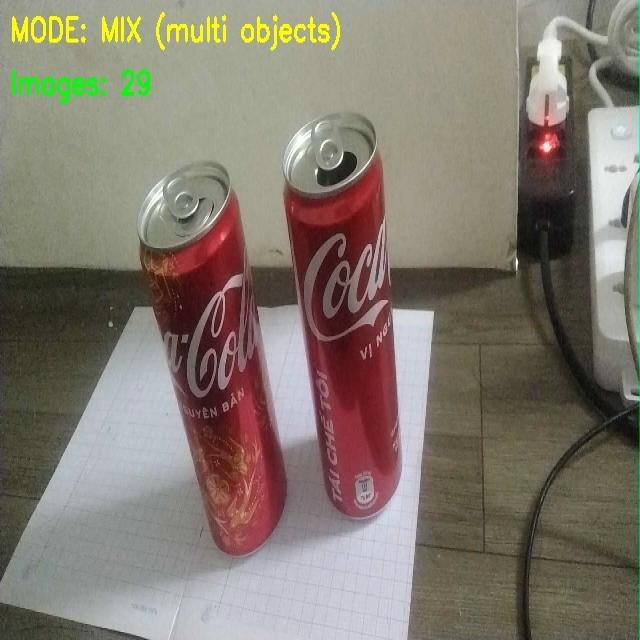Coca: (123, 151, 286, 561)
Coca_open: (277, 124, 456, 526)
